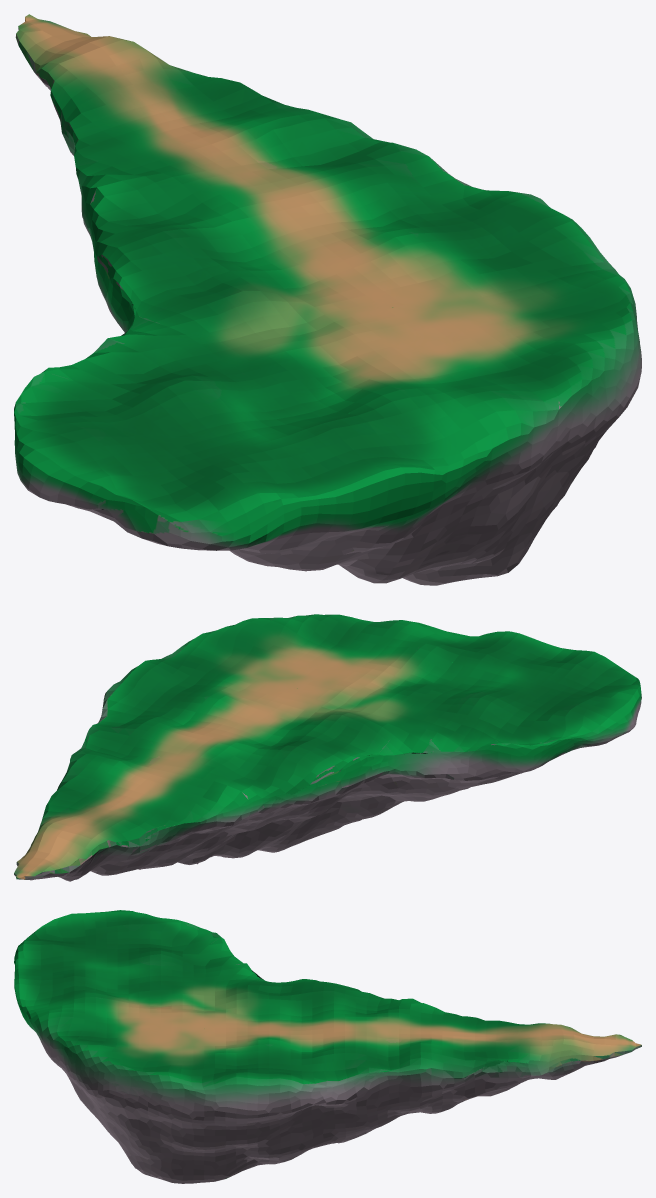
The model's file is Map1_Island1.fbx.
3 renders of one model, top to bottom at view 1: azimuth 30°, elevation 25°; view 2: azimuth 150°, elevation 25°; view 3: azimuth 270°, elevation 25°, orthographic. The views are drawn at different scales.
Visible parts, largest first — view 1: Map1_Island1_LOD0; view 2: Map1_Island1_LOD0; view 3: Map1_Island1_LOD0.
Part boxes in pixels (x1=…): Map1_Island1_LOD0: x1=14, y1=14, x2=641, y2=585; Map1_Island1_LOD0: x1=14, y1=614, x2=641, y2=881; Map1_Island1_LOD0: x1=14, y1=910, x2=641, y2=1183.
Size of what is drawn, in the model's own units: 419 by 157 by 622.
